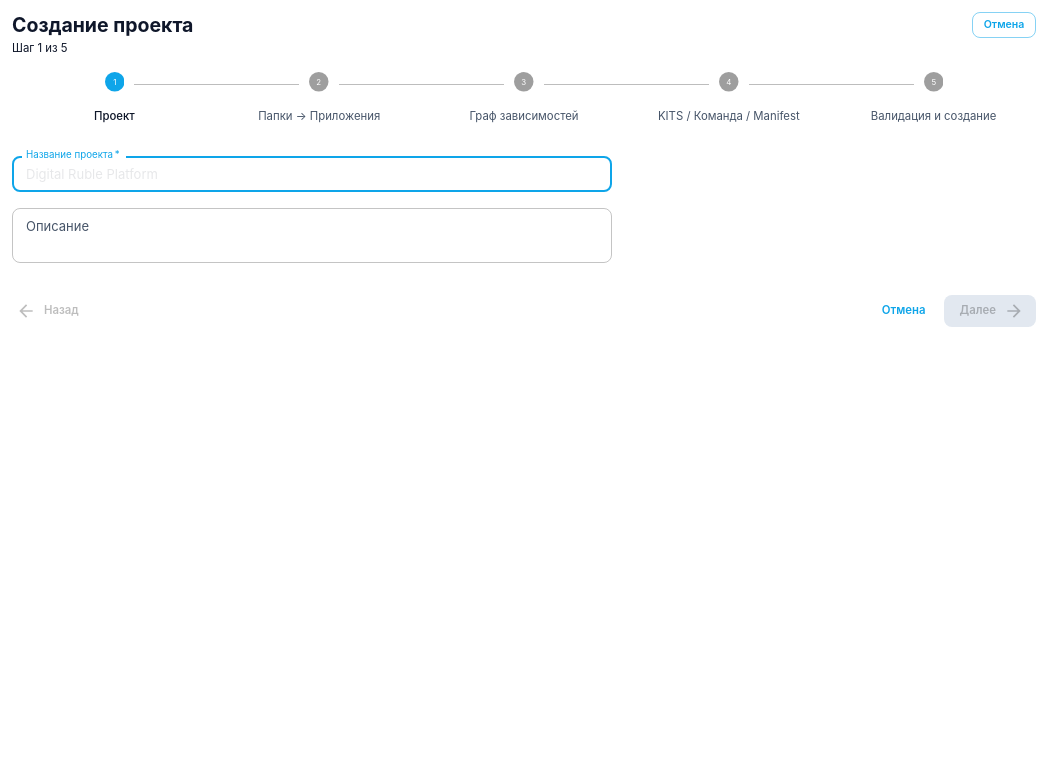
Test: POST-FLASH-001 / POST-FLASH-002: Project Composition Wizard & Corrections › ProjectCreateWizard: шаг 1 — drag-drop зона и папки
# Go to step 1
Type "Test Project" into the field labelled "Название проекта *" at [312, 174], box [12,156,612,192]
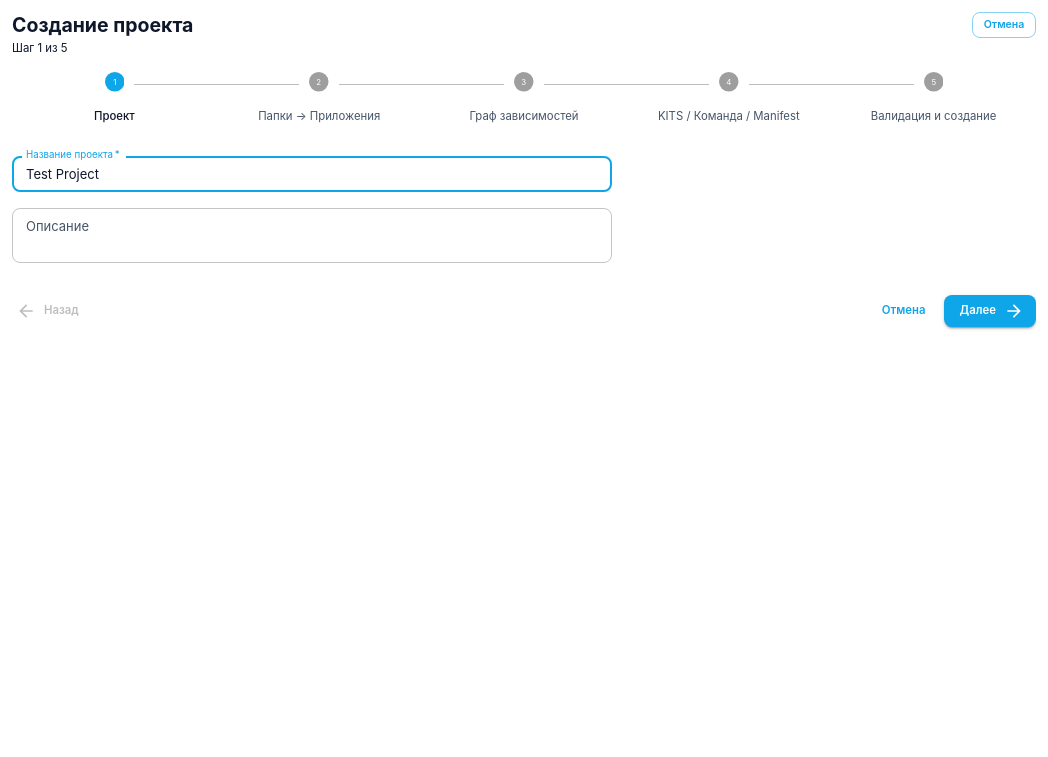
Click the button "Далее" at [990, 311], box [944,295,1036,327]
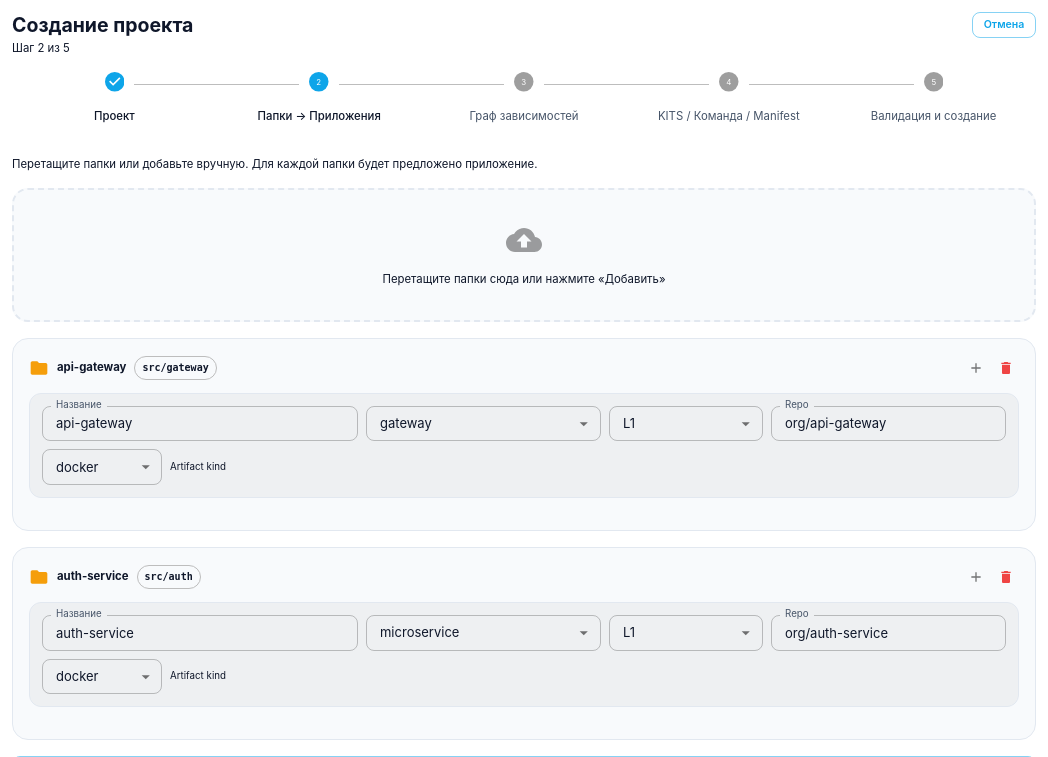
Expected: the text "Перетащите папки сюда или нажмите «Добавить»" is shown, [382,272,666,286]
Expected: the heading "api-gateway" is shown, [57,359,126,376]
Expected: the heading "auth-service" is shown, [57,568,128,586]
